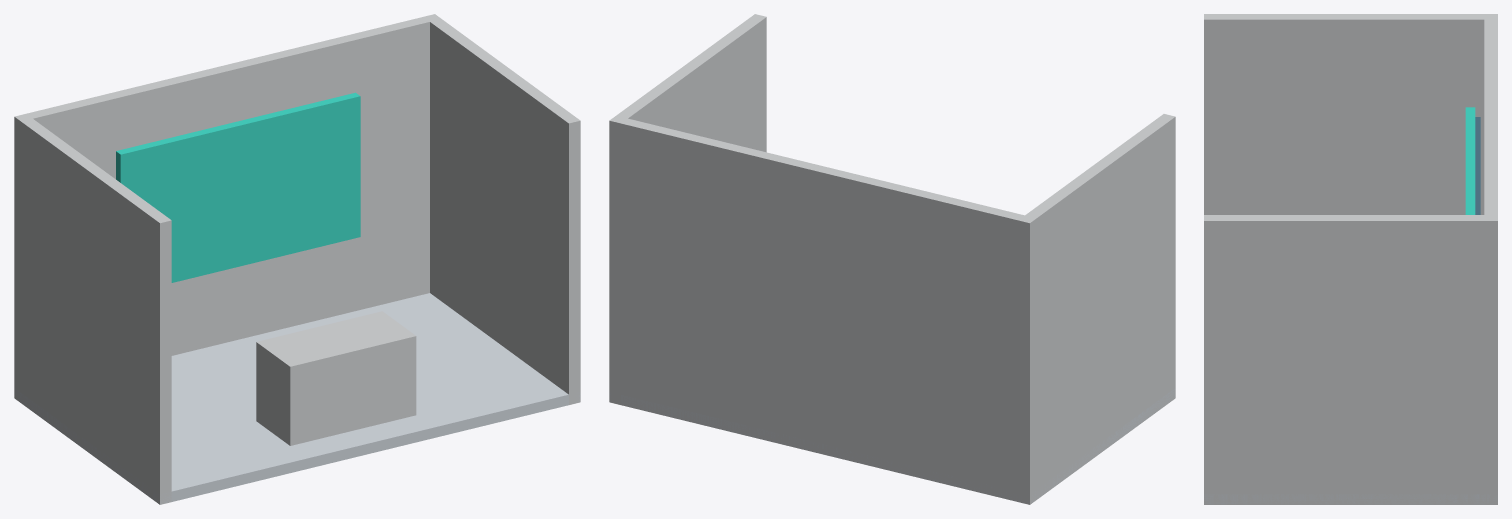
3 views of the same model, side by side, from view 1: azimuth 30°, elevation 25°; view 2: azimuth 150°, elevation 25°; view 3: azimuth 270°, elevation 25° (orthographic).
Visible parts, largest first — view 1: Exhibition Booth Concept; view 2: Exhibition Booth Concept; view 3: Exhibition Booth Concept.
Boxes of the visible parts, bbox=[...] form: Exhibition Booth Concept: bbox=[14, 14, 580, 504]; Exhibition Booth Concept: bbox=[609, 14, 1175, 504]; Exhibition Booth Concept: bbox=[1204, 14, 1497, 504].
Bounding box in the file's own units: 5 × 3.2 × 3.
